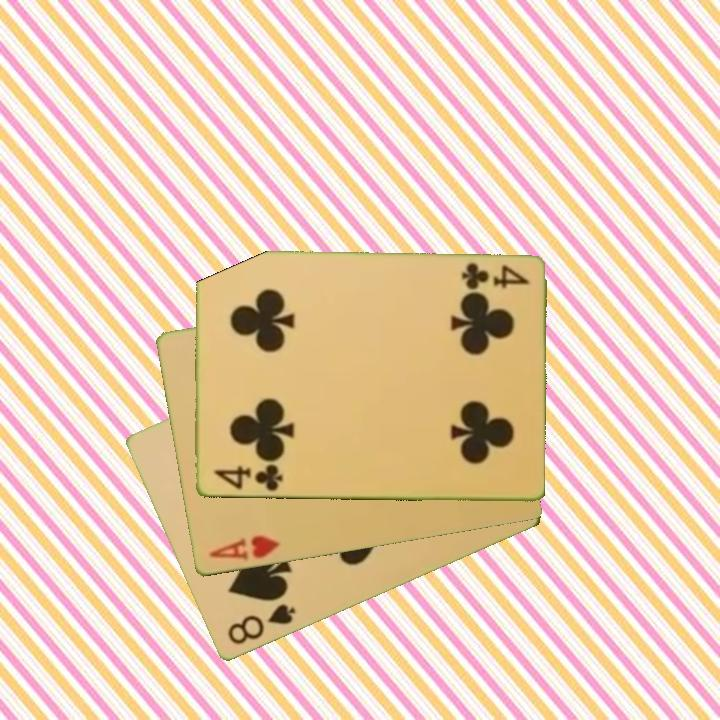4c: (210, 461, 285, 494), (458, 260, 532, 292)
8s: (223, 601, 298, 649)
Ah: (205, 532, 283, 564)
